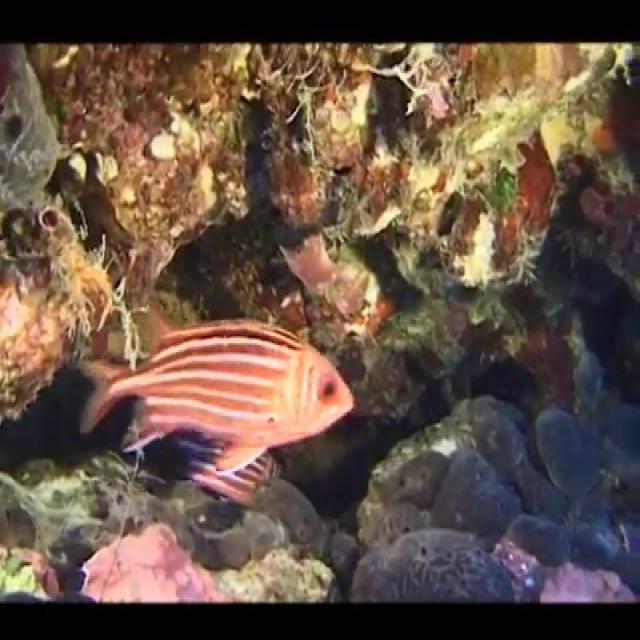Asker Baligi: (77, 308, 356, 507)
